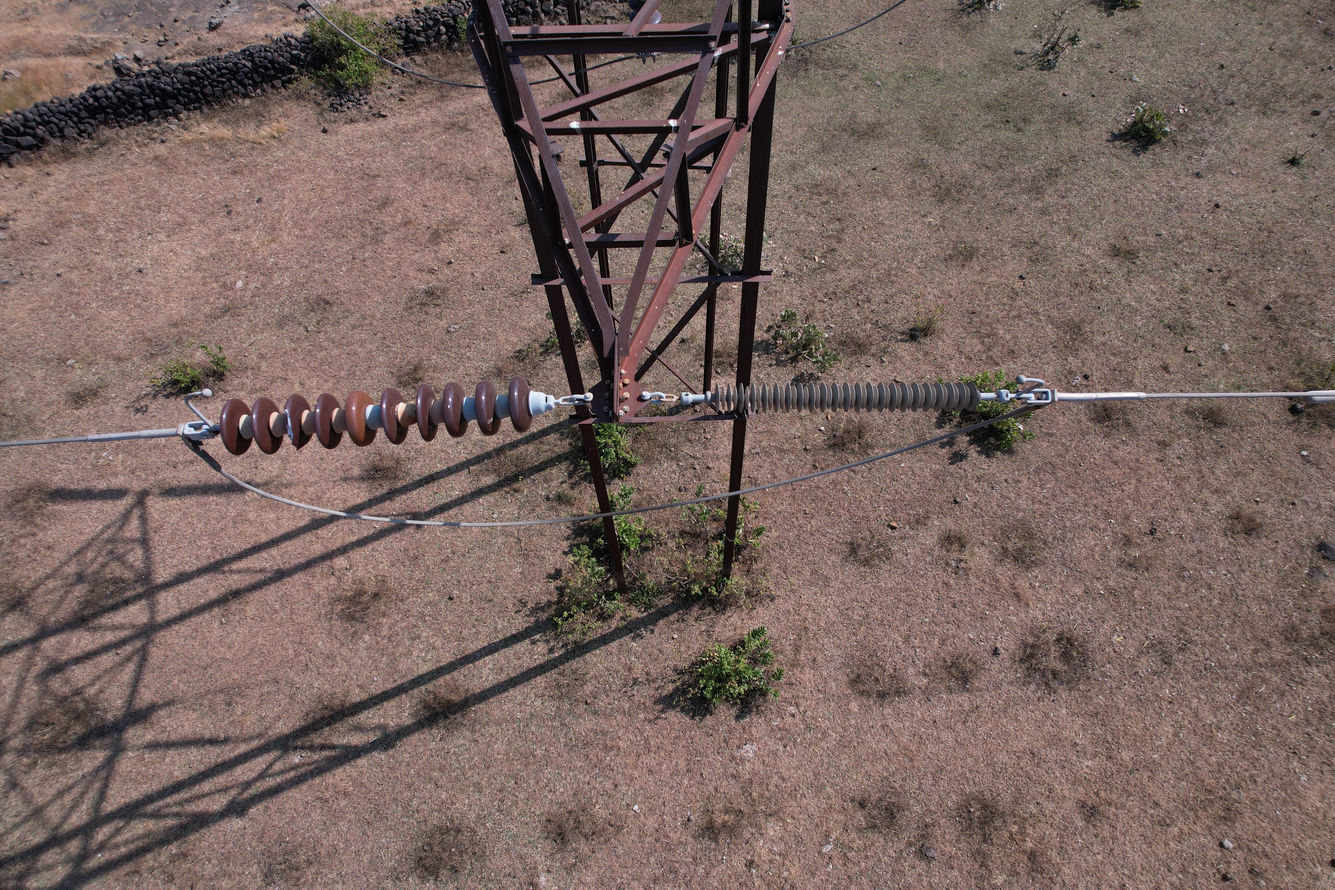broken_insulator: (280, 391, 313, 453)
